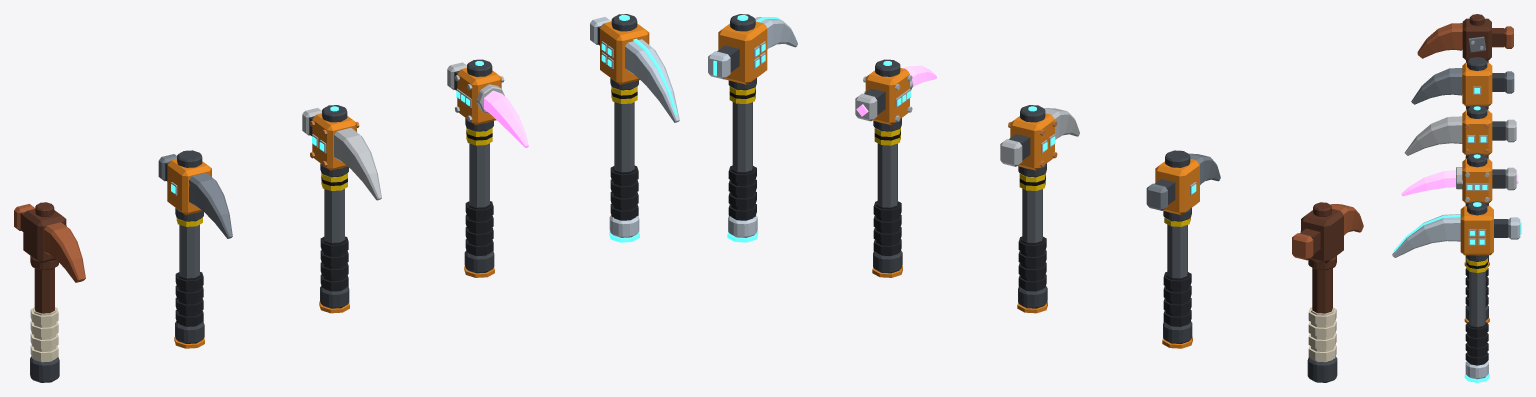
The model's file is pickaxe.glb.
3 renders of one model, left to right at view 1: azimuth 30°, elevation 25°; view 2: azimuth 150°, elevation 25°; view 3: azimuth 270°, elevation 25°, orthographic. The views are drawn at different scales.
Parts seen in each view (by area): view 1: PickaxeRust_RustDark, PickaxeTitan_Titan, PickaxeSteel_SteelLight, PickaxeIron_SteelGrey, PickaxeRust_Rust, PickaxeTitan_Orange, PickaxeIron_Orange, PickaxeCrystal_Orange, PickaxeTitan_SteelMid, PickaxeTitan_Handle_Belt, PickaxeSteel_Handle_Belt, PickaxeCrystal_Handle_Belt (+14 smaller); view 2: PickaxeRust_RustDark, PickaxeTitan_Orange, PickaxeTitan_Titan, PickaxeIron_Orange, PickaxeSteel_Orange, PickaxeCrystal_Orange, PickaxeTitan_SteelMid, PickaxeIron_SteelDark, PickaxeSteel_Handle_Belt, PickaxeSteel_SteelDark, PickaxeRust_Handle_Cream, PickaxeCrystal_SteelDark (+12 smaller); view 3: PickaxeTitan_Titan, PickaxeSteel_SteelLight, PickaxeTitan_Orange, PickaxeIron_SteelGrey, PickaxeRust_RustDark, PickaxeRust_Rust, PickaxeIron_Orange, PickaxeCrystal_Orange, PickaxeSteel_Orange, PickaxeTitan_SteelMid, PickaxeTitan_Handle_Belt, PickaxeCrystal_Glow_Crystal (+10 smaller).
Boxes of the visible parts, bbox=[...] form: PickaxeRust_RustDark: bbox=[20, 202, 66, 313]; PickaxeTitan_Titan: bbox=[590, 17, 679, 237]; PickaxeSteel_SteelLight: bbox=[302, 108, 381, 200]; PickaxeIron_SteelGrey: bbox=[158, 154, 232, 238]; PickaxeRust_Rust: bbox=[14, 204, 85, 282]; PickaxeTitan_Orange: bbox=[600, 21, 649, 84]; PickaxeIron_Orange: bbox=[167, 159, 211, 348]; PickaxeCrystal_Orange: bbox=[457, 68, 501, 277]; PickaxeTitan_SteelMid: bbox=[614, 102, 634, 172]; PickaxeTitan_Handle_Belt: bbox=[610, 165, 638, 220]; PickaxeSteel_Handle_Belt: bbox=[320, 236, 348, 291]; PickaxeCrystal_Handle_Belt: bbox=[465, 201, 493, 255]; PickaxeRust_RustDark: bbox=[1299, 202, 1343, 313]; PickaxeTitan_Orange: bbox=[718, 21, 767, 84]; PickaxeTitan_Titan: bbox=[708, 17, 797, 237]; PickaxeIron_Orange: bbox=[1155, 159, 1199, 348]; PickaxeSteel_Orange: bbox=[1010, 113, 1054, 313]; PickaxeCrystal_Orange: bbox=[865, 68, 909, 277]; PickaxeTitan_SteelMid: bbox=[732, 102, 752, 172]; PickaxeIron_SteelDark: bbox=[1154, 150, 1192, 343]; PickaxeSteel_Handle_Belt: bbox=[1018, 236, 1046, 291]; PickaxeSteel_SteelDark: bbox=[1009, 105, 1047, 308]; PickaxeRust_Handle_Cream: bbox=[1308, 307, 1336, 362]; PickaxeCrystal_SteelDark: bbox=[864, 59, 902, 273]; PickaxeTitan_Titan: bbox=[1392, 214, 1520, 379]; PickaxeSteel_SteelLight: bbox=[1404, 116, 1516, 155]; PickaxeTitan_Orange: bbox=[1460, 206, 1493, 255]; PickaxeIron_SteelGrey: bbox=[1411, 68, 1514, 104]; PickaxeRust_RustDark: bbox=[1462, 14, 1503, 62]; PickaxeRust_Rust: bbox=[1417, 23, 1513, 58]; PickaxeIron_Orange: bbox=[1462, 62, 1492, 206]; PickaxeCrystal_Orange: bbox=[1462, 158, 1492, 323]; PickaxeSteel_Orange: bbox=[1462, 110, 1492, 266]; PickaxeTitan_SteelMid: bbox=[1469, 271, 1485, 326]; PickaxeTitan_Handle_Belt: bbox=[1465, 322, 1488, 365]; PickaxeCrystal_Glow_Crystal: bbox=[1401, 170, 1518, 196].
Size of the model in its own units: 12.68 by 4.33 by 2.93.
